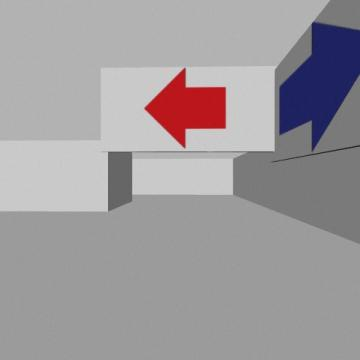blue_right: (280, 22, 359, 150)
red_left: (145, 68, 226, 148)
